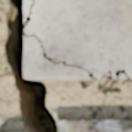brick: (26, 0, 131, 76), (25, 38, 92, 80)
broken_brick: (58, 119, 131, 131), (0, 130, 27, 131)
crack: (2, 0, 131, 131)
